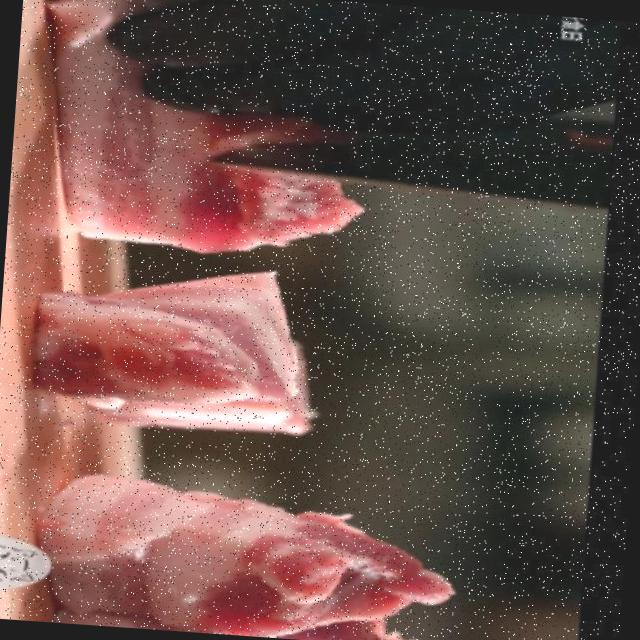pork: (22, 470, 457, 640), (0, 260, 342, 448), (63, 96, 396, 268)
